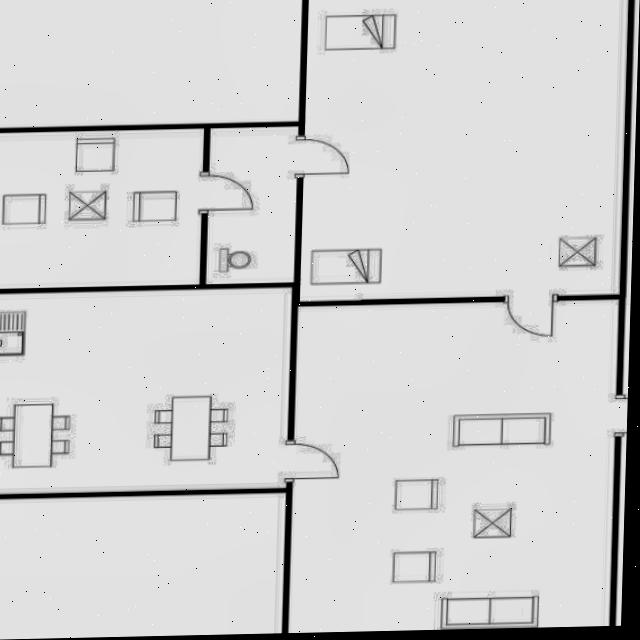room: (288, 290, 619, 640), (300, 0, 628, 302), (0, 287, 297, 494), (0, 128, 207, 289), (206, 123, 299, 287)
